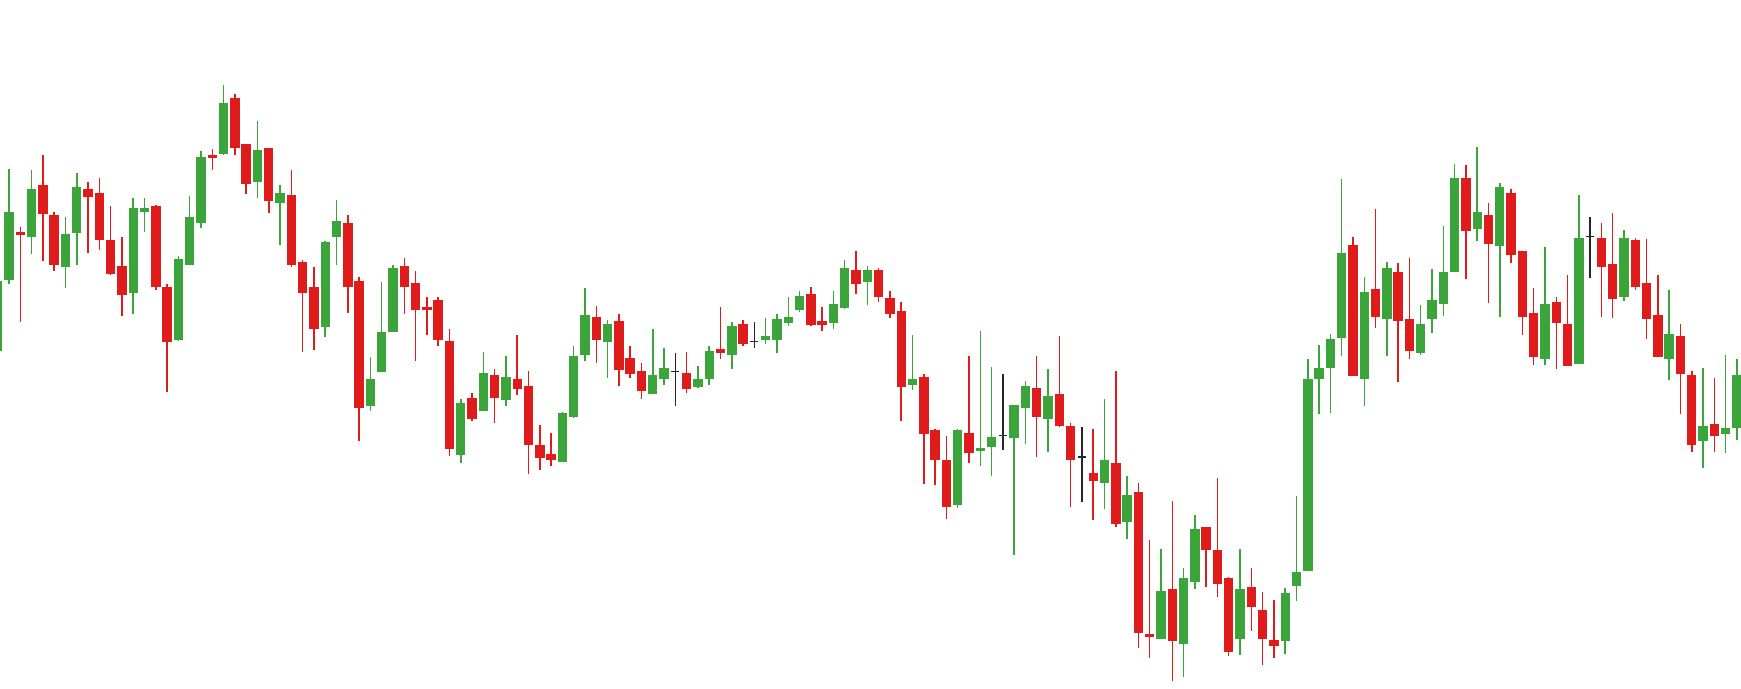buy: (16, 206, 185, 392), (455, 375, 570, 477)
sell: (1335, 163, 1473, 320)
